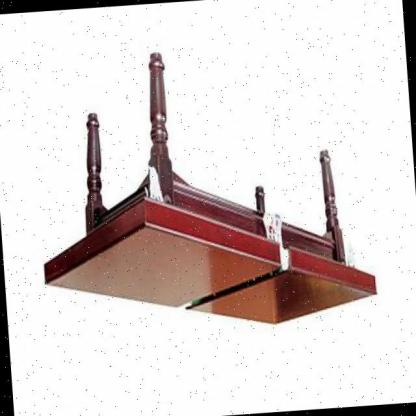Table: (13, 20, 401, 356)
